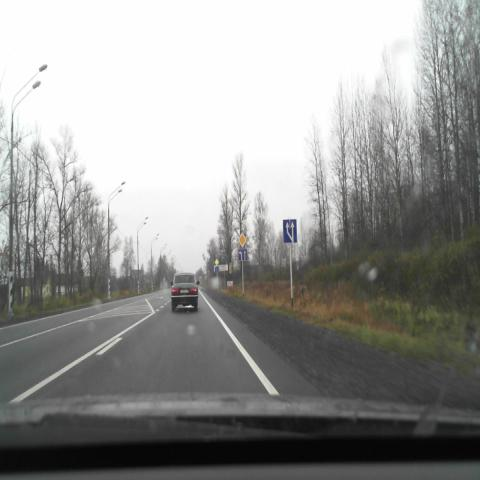5_15_3: (283, 219, 297, 243)
